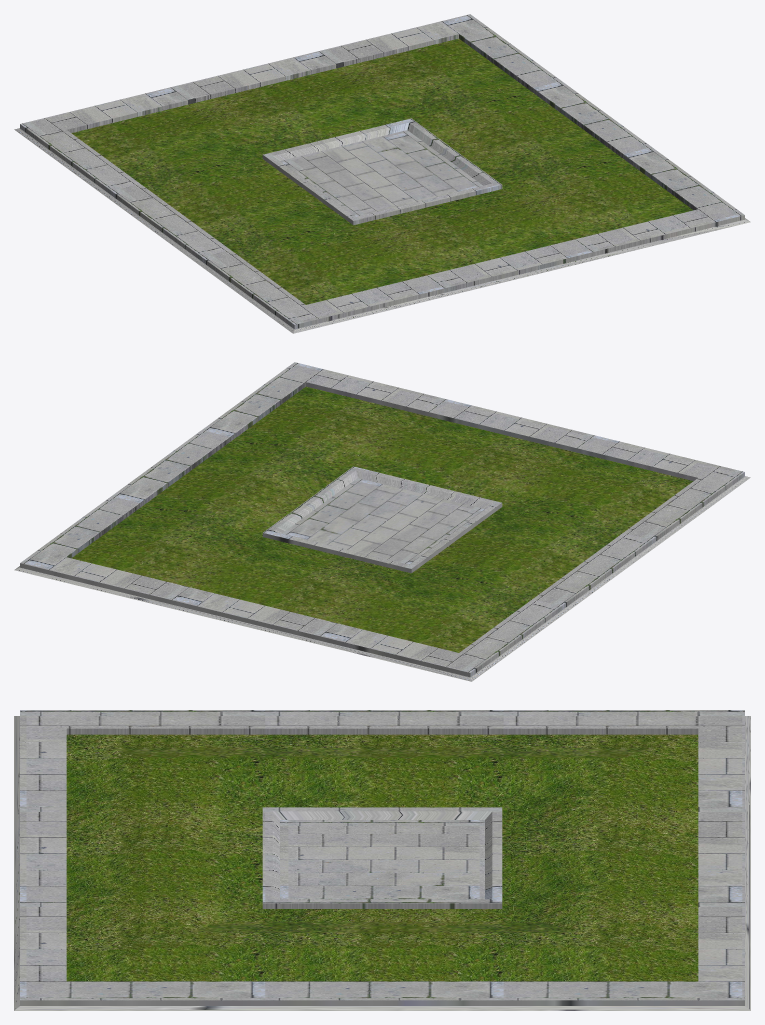
Rendered from park.obj.
3 renders of one model, top to bottom at view 1: azimuth 30°, elevation 25°; view 2: azimuth 150°, elevation 25°; view 3: azimuth 270°, elevation 25°, orthographic. The views are drawn at different scales.
Visible parts, largest first — view 1: Cube; view 2: Cube; view 3: Cube.
Boxes of the visible parts, box(x1,y1,x2,y2) form: Cube: box(14, 14, 750, 333); Cube: box(14, 362, 750, 681); Cube: box(14, 710, 750, 1010).
Bounding box in the file's own units: 50.32 × 0.7775 × 53.15.
Materials: 2 (2 with a texture image).
